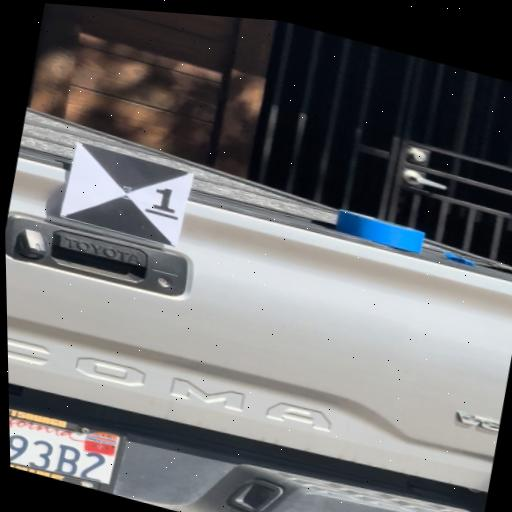target1: (63, 141, 192, 247)
